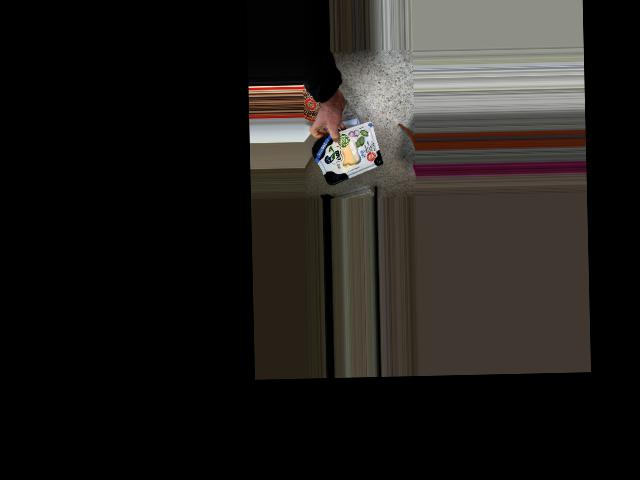cheese: (314, 127, 382, 176)
